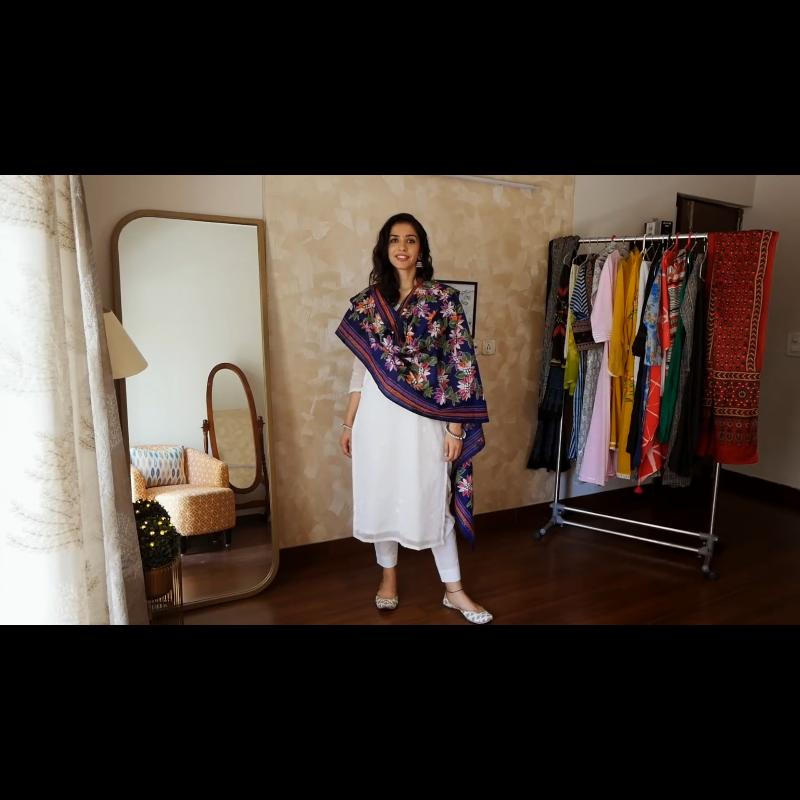Churidaar: (335, 276, 486, 585)
